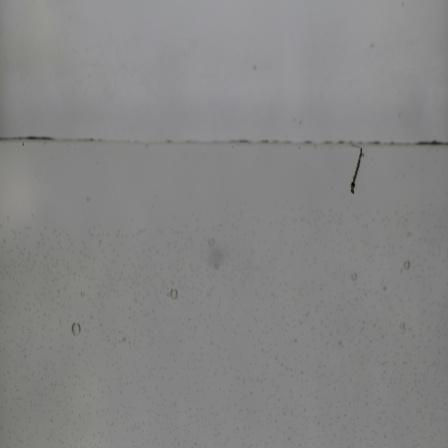Jentik-Nyamuk: (346, 145, 369, 196)
